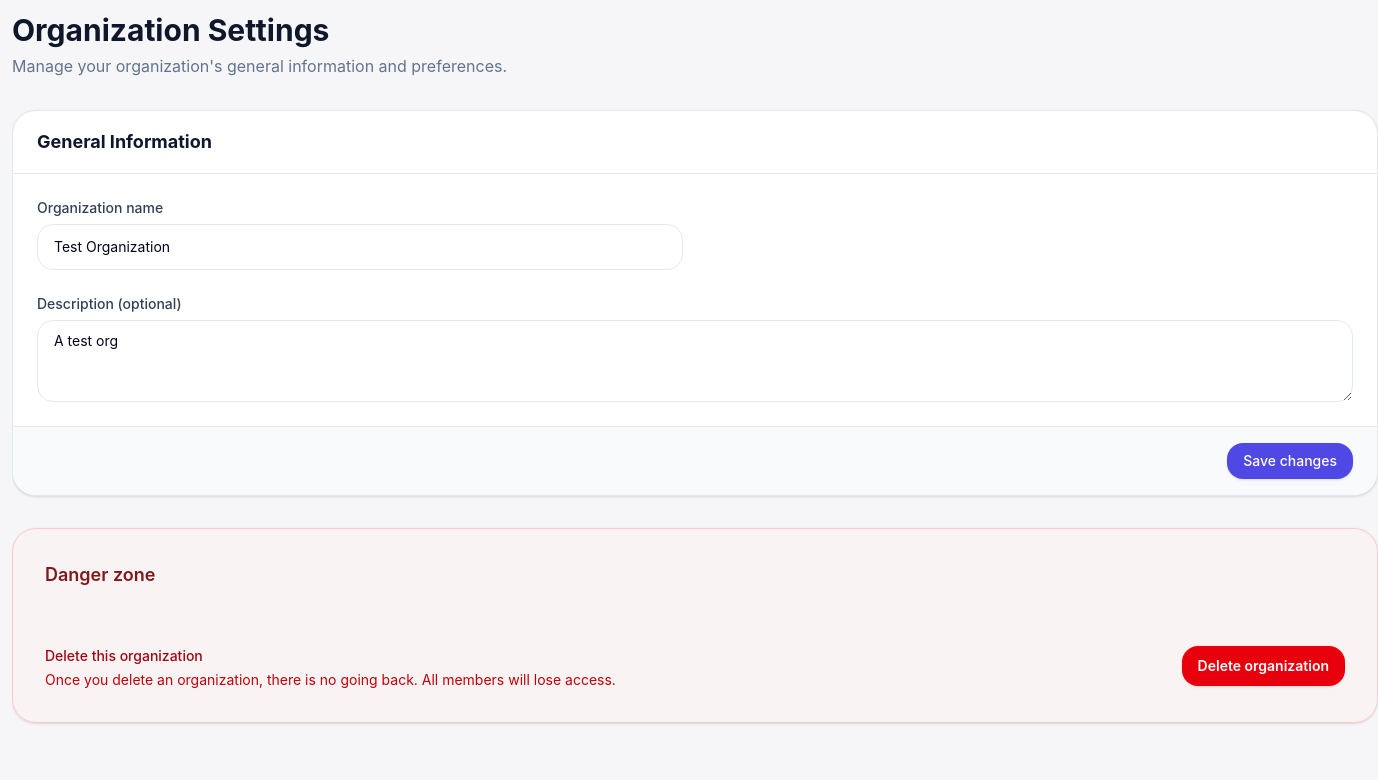
Test: OrgSettingsForm › shows validation error for empty name
Clear the field labelled "Organization name" at coordinates (360, 247), box [37, 224, 683, 270]
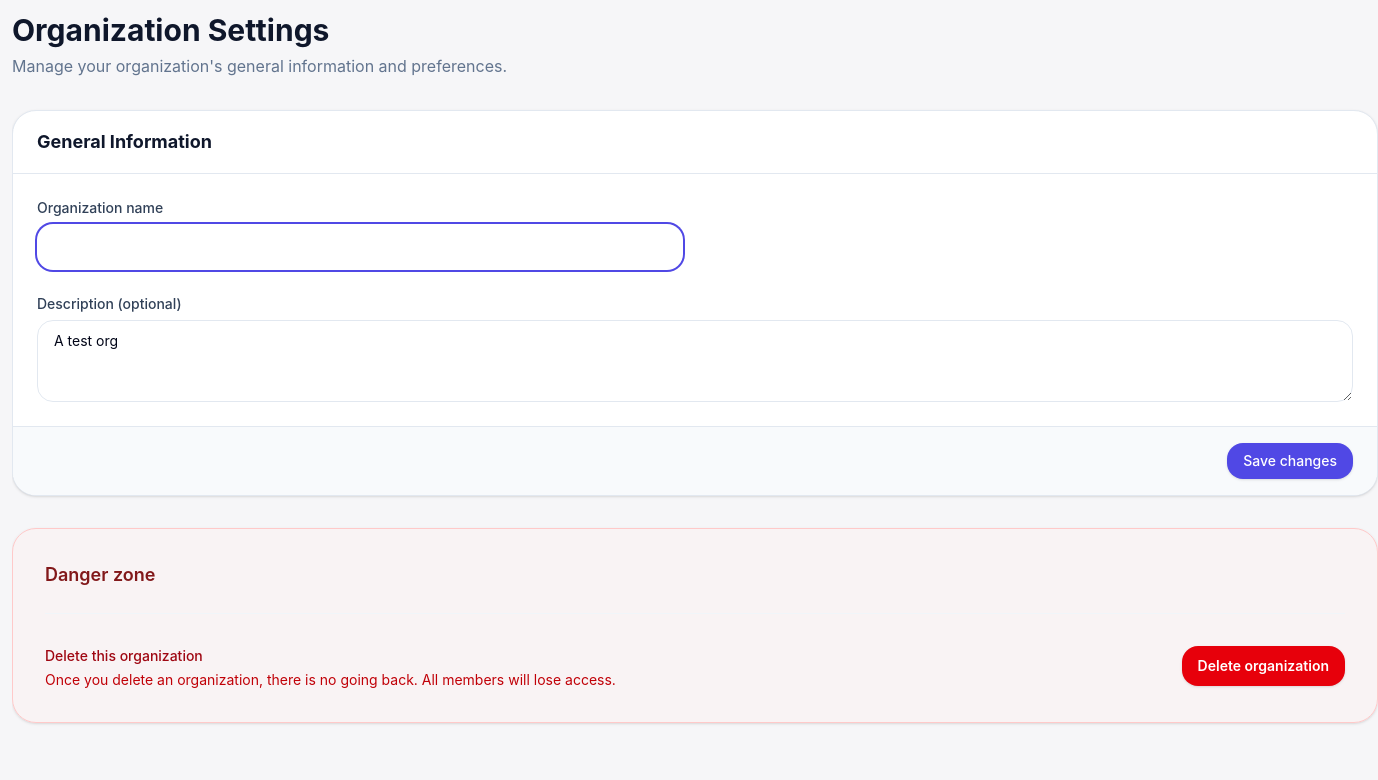
Click the button "Save changes" at coordinates (1290, 461), box [1227, 443, 1353, 479]
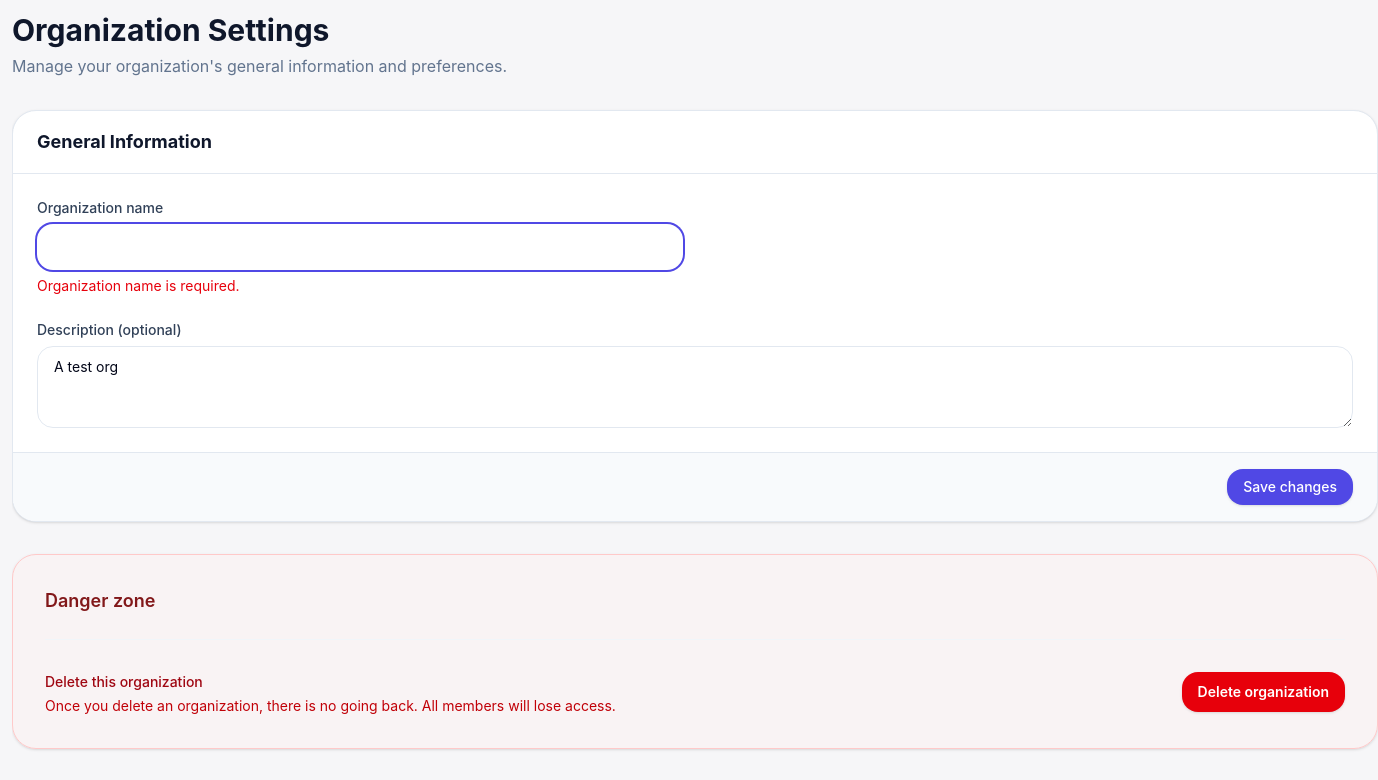
Check: the text "Organization name is required." is shown, box [37, 277, 240, 294]
